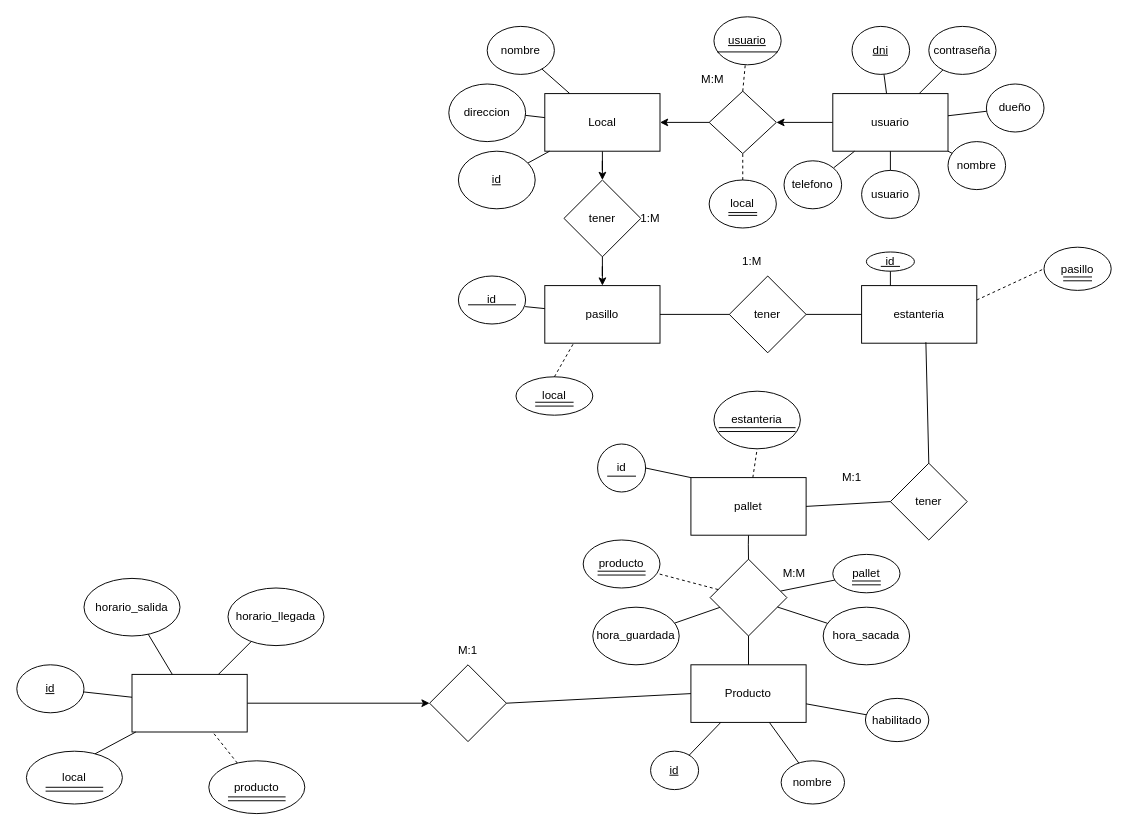
Some shapes in this 1128 by 830 pixel diagram are drawn without their labels. Each missing label, with the centre of its shape:
administar: the point at 742,122
guardar: the point at 748,597
transportar: the point at 467,703
viaje: the point at 189,702
